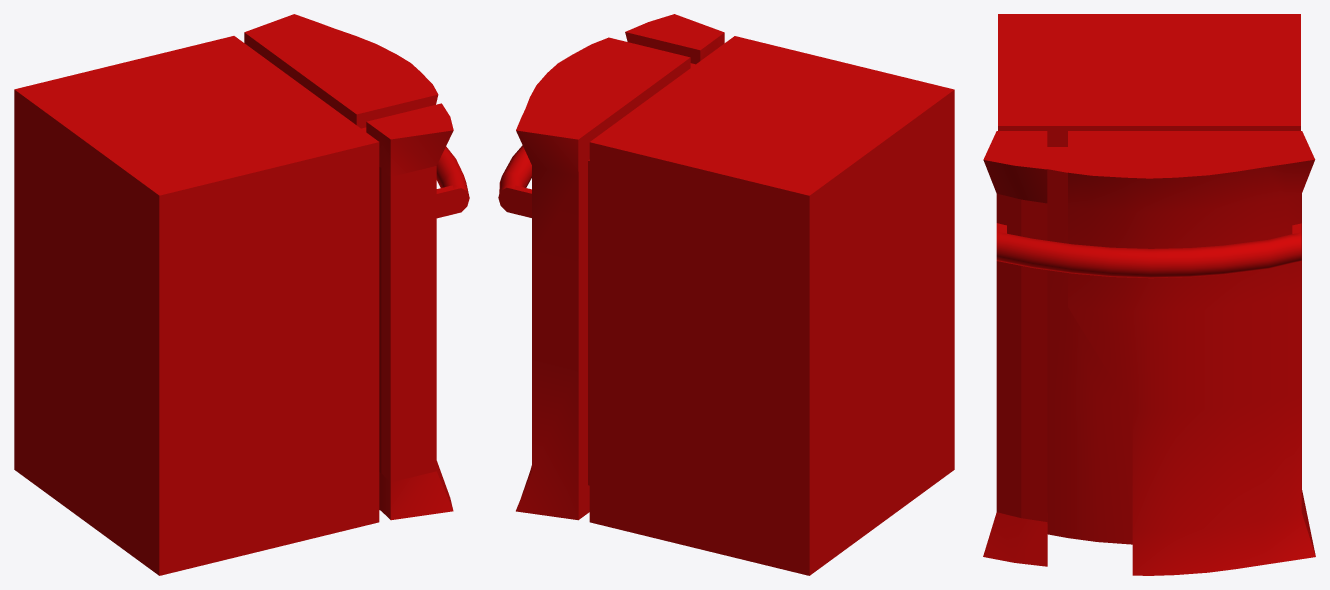
The model's file is fridge complet.fbx.
3 renders of one model, left to right at view 1: azimuth 30°, elevation 25°; view 2: azimuth 150°, elevation 25°; view 3: azimuth 270°, elevation 25°, orthographic. The views are drawn at different scales.
Parts seen in each view (by area): view 1: base_low; view 2: base_low; view 3: base_low.
Boxes of the visible parts, x1,y1,x2,y2 form: base_low: [14, 14, 469, 575]; base_low: [498, 14, 954, 575]; base_low: [983, 14, 1315, 575].
Bounding box in the file's own units: 58.77 × 62.27 × 47.29.
